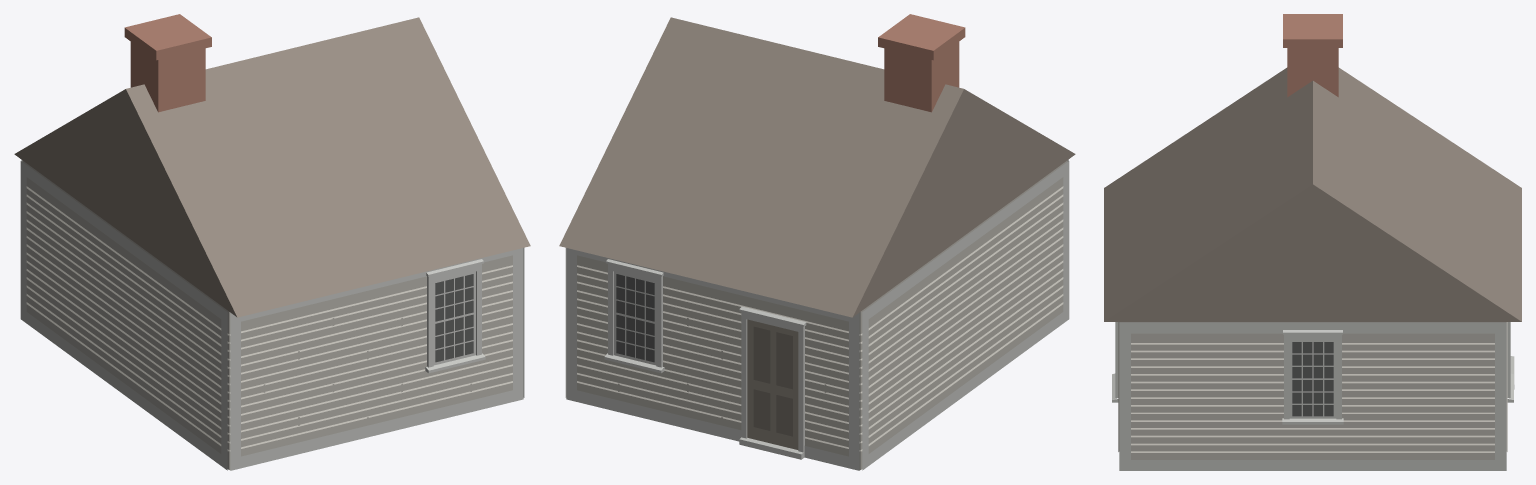
Rendered from recon_1835_blk_washington_wells_d3_06__inferred_1835.glb.
The picture shows the model from 3 angles, left to right: view 1: azimuth 30°, elevation 25°; view 2: azimuth 150°, elevation 25°; view 3: azimuth 270°, elevation 25°; orthographic projection. The views are drawn at different scales.
Visible parts, largest first — view 1: recon_1835_blk_washington_wells_d3_06__inferred_1835; view 2: recon_1835_blk_washington_wells_d3_06__inferred_1835; view 3: recon_1835_blk_washington_wells_d3_06__inferred_1835.
Boxes of the visible parts, x1,y1,x2,y2 form: recon_1835_blk_washington_wells_d3_06__inferred_1835: (14,14,530,470); recon_1835_blk_washington_wells_d3_06__inferred_1835: (559,14,1075,470); recon_1835_blk_washington_wells_d3_06__inferred_1835: (1104,14,1521,470).
Bounding box in the file's own units: 5.35 × 5.95 × 6.85.
